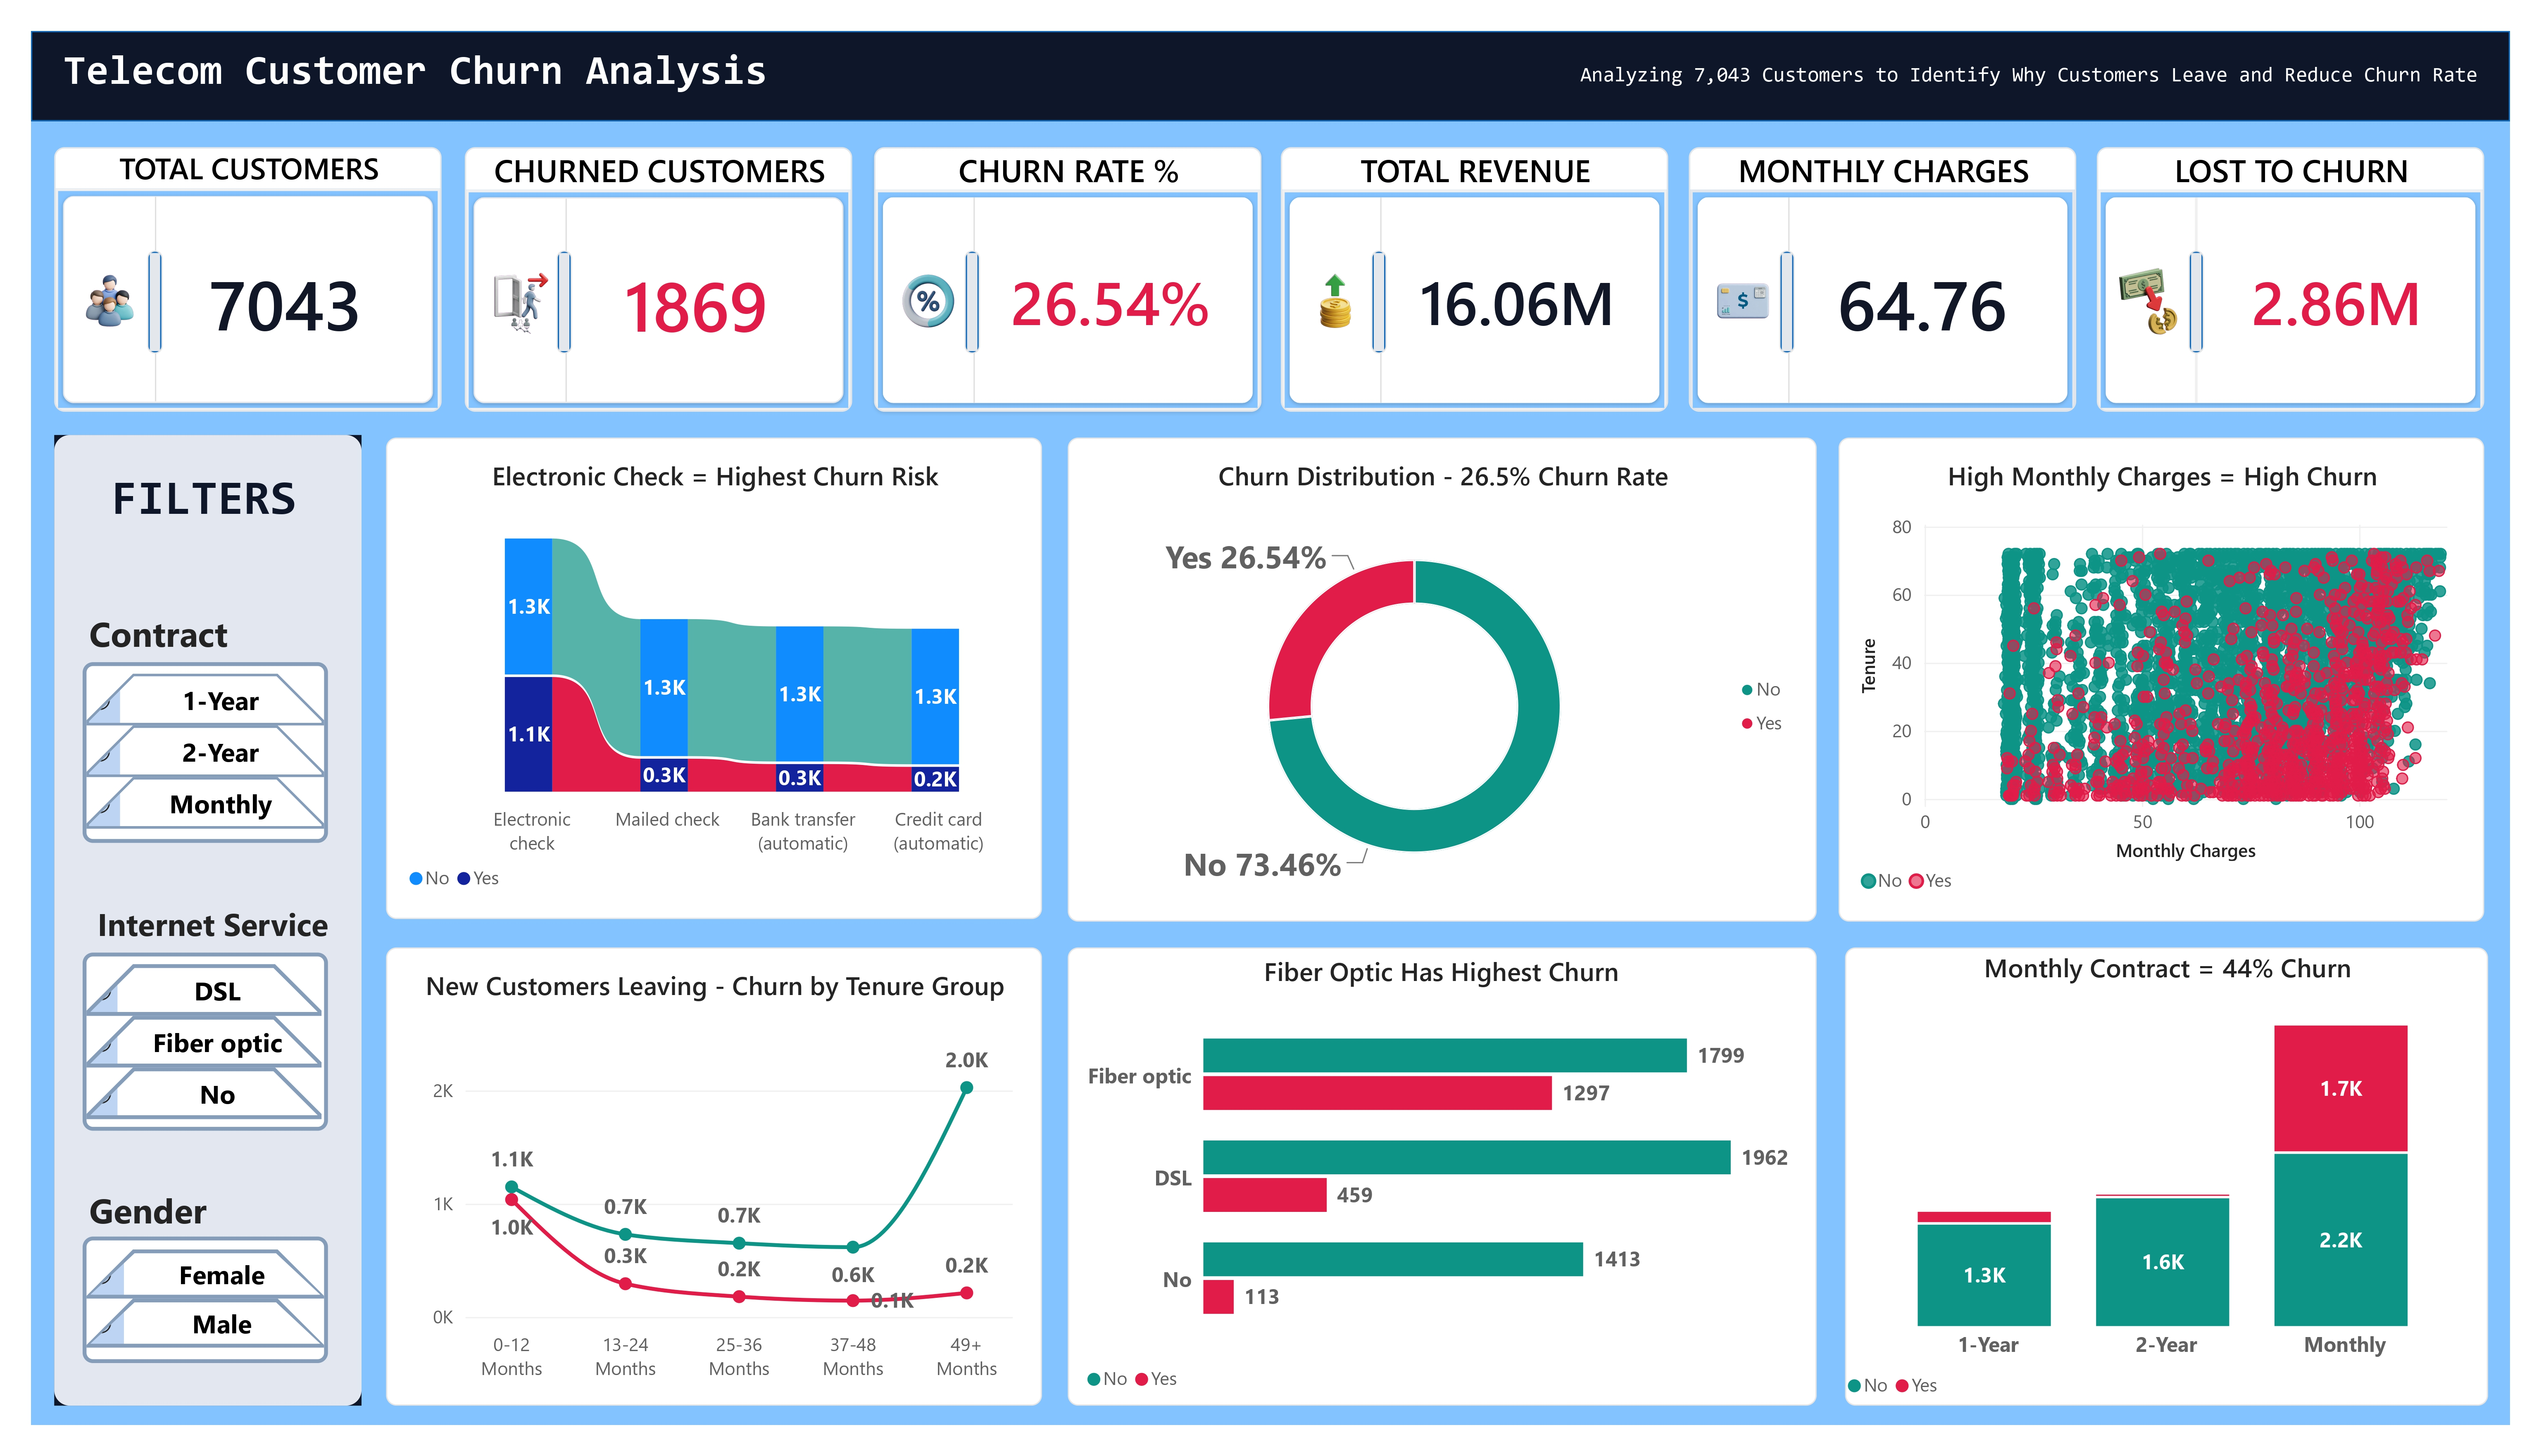

The page's visual inventory and layout, read from the dashboard file:
{"tool":"powerbi","page":{"name":"Page 1","canvas":[1920,1080],"ordinal":0},"visuals":[{"type":"cardVisual","title":"TOTAL CUSTOMERS","fields":{"Data":["Telecom Churn & Revenue.Total_Customers"]},"box":[18,90,300,204.9],"z":0,"group":"g1"},{"type":"cardVisual","title":"TOTAL REVENUE","fields":{"Data":["Telecom Churn & Revenue.Total_Revenue"]},"box":[968,90,300,205],"z":0},{"type":"cardVisual","title":"LOST TO CHURN","fields":{"Data":["Telecom Churn & Revenue.Revenue_Lost"]},"box":[1600,90,300,205],"z":1000},{"type":"shape","box":[18,312.5,238,752.5],"z":2000},{"type":"cardVisual","title":"CHURNED CUSTOMERS","fields":{"Data":["Telecom Churn & Revenue.Total_Churned"]},"box":[336,90,300,205],"z":3000},{"type":"cardVisual","title":"MONTHLY CHARGES","fields":{"Data":["Telecom Churn & Revenue.Avg_Monthly_Charge"]},"box":[1284,90,300,205],"z":4000},{"type":"shape","box":[90,170,12,80],"z":4000,"group":"g1"},{"type":"cardVisual","title":"CHURN RATE %","fields":{"Data":["Telecom Churn & Revenue.Churn_Rate %"]},"box":[652.5,90,300,205],"z":5000},{"type":"shape","box":[1038,170,12,80],"z":6000},{"type":"shape","box":[1671,170,12,80],"z":7000},{"type":"shape","box":[1354,170,12,80],"z":8000},{"type":"shape","box":[723,170,12,80],"z":9000},{"type":"shape","box":[407,170,12,80],"z":10000},{"type":"shape","box":[0,0,1920,70],"z":11000},{"type":"textbox","box":[25,12,800,45],"z":12000},{"type":"textbox","box":[1200,24,710,25],"z":13000},{"type":"columnChart","title":" Monthly Contract = 44% Churn","fields":{"Series":["Telecom Churn & Revenue.Churn"],"Y":["CountNonNull(Telecom Churn & Revenue.customerID)"],"Category":["Telecom Churn & Revenue.Contract Short"]},"box":[1405,710,497.5,355],"z":14000},{"type":"donutChart","title":"Churn Distribution - 26.5% Churn Rate","fields":{"Category":["Telecom Churn & Revenue.Churn"],"Y":["CountNonNull(Telecom Churn & Revenue.customerID)"]},"box":[802.5,315,580,375],"z":15000},{"type":"scatterChart","title":"High Monthly Charges = High Churn","fields":{"X":["Telecom Churn & Revenue.MonthlyCharges"],"Y":["Telecom Churn & Revenue.tenure"],"Series":["Telecom Churn & Revenue.Churn"]},"box":[1400,315,500,375],"z":16000},{"type":"lineChart","title":"New Customers Leaving - Churn by Tenure Group","fields":{"Category":["Telecom Churn & Revenue.TenureGroup"],"Y":["CountNonNull(Telecom Churn & Revenue.customerID)"],"Series":["Telecom Churn & Revenue.Churn"]},"box":[275,710,507.5,355],"z":17000},{"type":"clusteredBarChart","title":"Fiber Optic Has Highest Churn","fields":{"Category":["Telecom Churn & Revenue.InternetService"],"Y":["CountNonNull(Telecom Churn & Revenue.customerID)"],"Series":["Telecom Churn & Revenue.Churn"]},"box":[802.5,710,580,355],"z":18000},{"type":"listSlicer","fields":{"Values":["Telecom Churn & Revenue.Contract Short"]},"box":[40,489,190,140],"z":19000},{"type":"group","id":"g1","title":"Group 3","box":[18,90,300,204.9],"z":20000},{"type":"listSlicer","fields":{"Values":["Telecom Churn & Revenue.InternetService"]},"box":[40,714,190,138],"z":21000},{"type":"listSlicer","fields":{"Values":["Telecom Churn & Revenue.gender"]},"box":[40,934,190,97.5],"z":22000},{"type":"textbox","box":[24,340,220,52.5],"z":23000},{"type":"textbox","box":[45,675,250,50],"z":24000},{"type":"textbox","box":[45,448,300,60],"z":25000},{"type":"textbox","box":[45,895,200,60],"z":26000},{"type":"ribbonChart","title":"Electronic Check = Highest Churn Risk","fields":{"Y":["CountNonNull(Telecom Churn & Revenue.customerID)"],"Category":["Telecom Churn & Revenue.PaymentMethod"],"Series":["Telecom Churn & Revenue.Churn"]},"box":[275,315,507.5,372.5],"z":27000}]}

Visuals, with their boxes in screenshot pixels (x1, y1, x2, y2):
"TOTAL CUSTOMERS" cardVisual: Rect(43, 137, 435, 405)
"TOTAL REVENUE" cardVisual: Rect(1283, 137, 1675, 405)
"LOST TO CHURN" cardVisual: Rect(2108, 137, 2500, 405)
shape: Rect(43, 428, 354, 1409)
"CHURNED CUSTOMERS" cardVisual: Rect(458, 137, 850, 405)
"MONTHLY CHARGES" cardVisual: Rect(1696, 137, 2087, 405)
shape: Rect(137, 242, 153, 346)
"CHURN RATE %" cardVisual: Rect(871, 137, 1263, 405)
shape: Rect(1375, 242, 1390, 346)
shape: Rect(2201, 242, 2216, 346)
shape: Rect(1787, 242, 1803, 346)
shape: Rect(964, 242, 979, 346)
shape: Rect(551, 242, 567, 346)
shape: Rect(20, 20, 2526, 111)
textbox: Rect(52, 36, 1097, 94)
textbox: Rect(1586, 51, 2512, 84)
" Monthly Contract = 44% Churn" columnChart: Rect(1853, 946, 2503, 1409)
"Churn Distribution - 26.5% Churn Rate" donutChart: Rect(1067, 431, 1824, 920)
"High Monthly Charges = High Churn" scatterChart: Rect(1847, 431, 2500, 920)
"New Customers Leaving - Churn by Tenure Group" lineChart: Rect(379, 946, 1041, 1409)
"Fiber Optic Has Highest Churn" clusteredBarChart: Rect(1067, 946, 1824, 1409)
listSlicer - Telecom Churn & Revenue.Contract Short: Rect(72, 658, 320, 841)
"Group 3" group: Rect(43, 137, 435, 405)
listSlicer - Telecom Churn & Revenue.InternetService: Rect(72, 951, 320, 1131)
listSlicer - Telecom Churn & Revenue.gender: Rect(72, 1238, 320, 1366)
textbox: Rect(51, 463, 338, 532)
textbox: Rect(79, 900, 405, 966)
textbox: Rect(79, 604, 470, 683)
textbox: Rect(79, 1188, 340, 1266)
"Electronic Check = Highest Churn Risk" ribbonChart: Rect(379, 431, 1041, 917)
